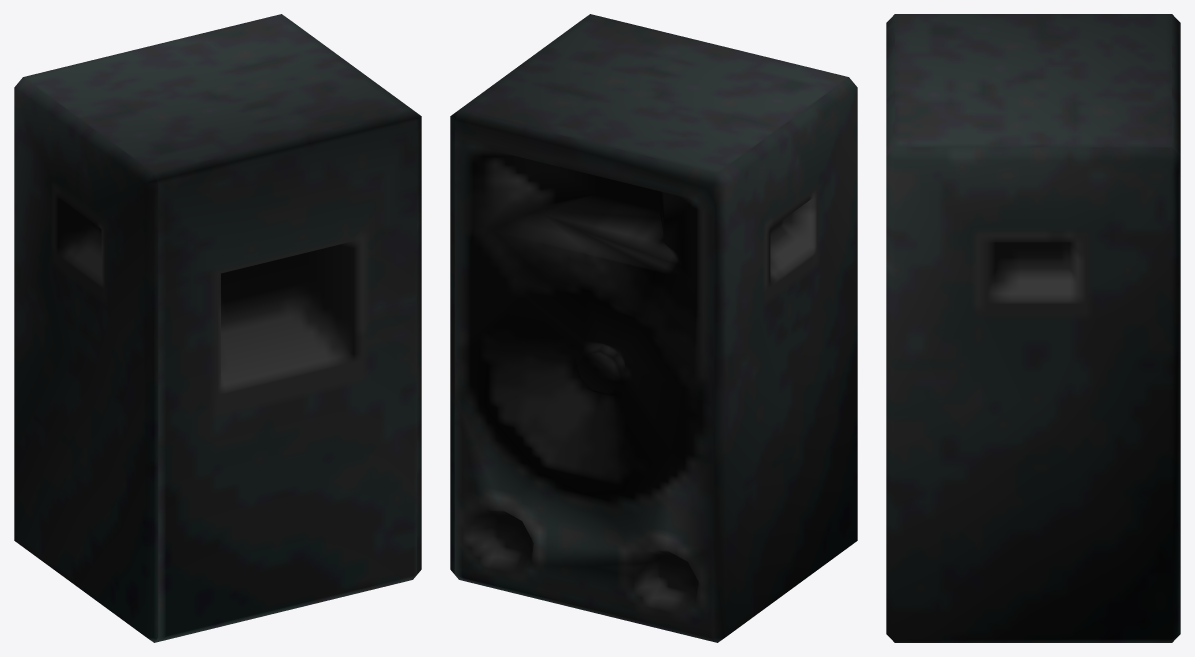
File: LIST.ICO.obj
3 views of the same model, side by side, from view 1: azimuth 30°, elevation 25°; view 2: azimuth 150°, elevation 25°; view 3: azimuth 270°, elevation 25° (orthographic). The views are drawn at different scales.
Size of the model in its own units: 2.64 by 4.28 by 2.3.
Materials: 1 (1 with a texture image).
